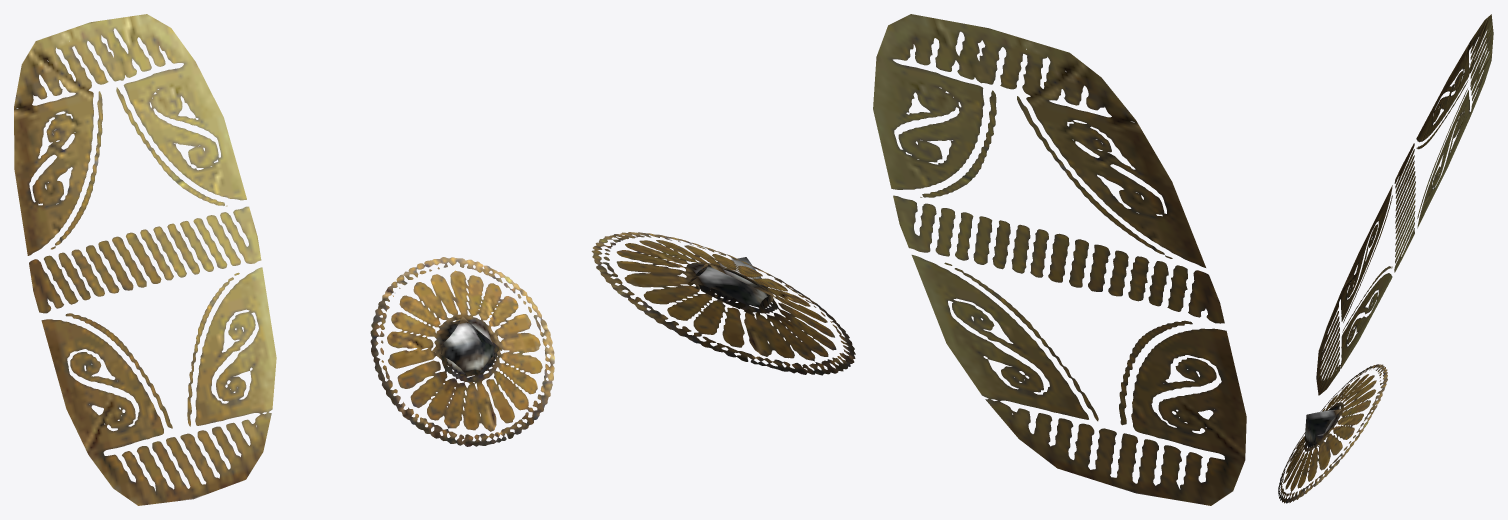
File: iber_temple_a.dae
3 renders of one model, left to right at view 1: azimuth 30°, elevation 25°; view 2: azimuth 150°, elevation 25°; view 3: azimuth 270°, elevation 25°, orthographic. The views are drawn at different scales.
Visible parts, largest first — view 1: Cylinder20; view 2: Cylinder20; view 3: Cylinder20.
Part boxes in pixels (<box>): Cylinder20: <box>14,14,554,505</box>; Cylinder20: <box>591,14,1246,505</box>; Cylinder20: <box>1278,14,1493,503</box>.
Size of the model in its own units: 3.02 by 1.39 by 2.43.
